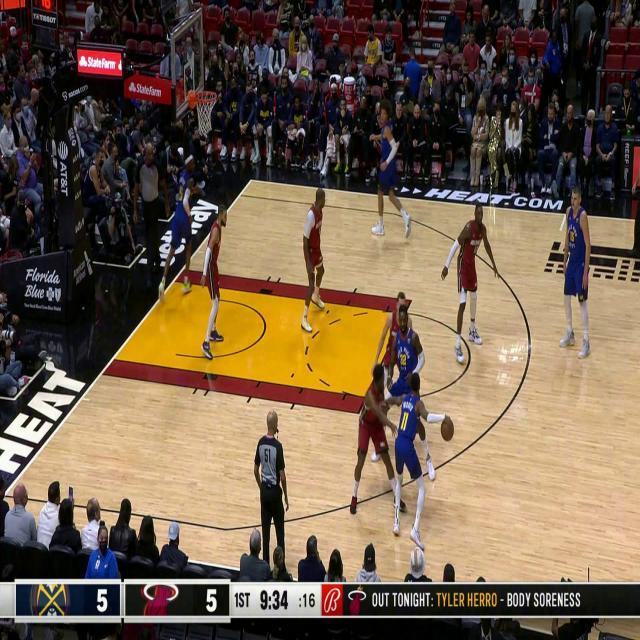rim: (441, 416, 454, 440)
